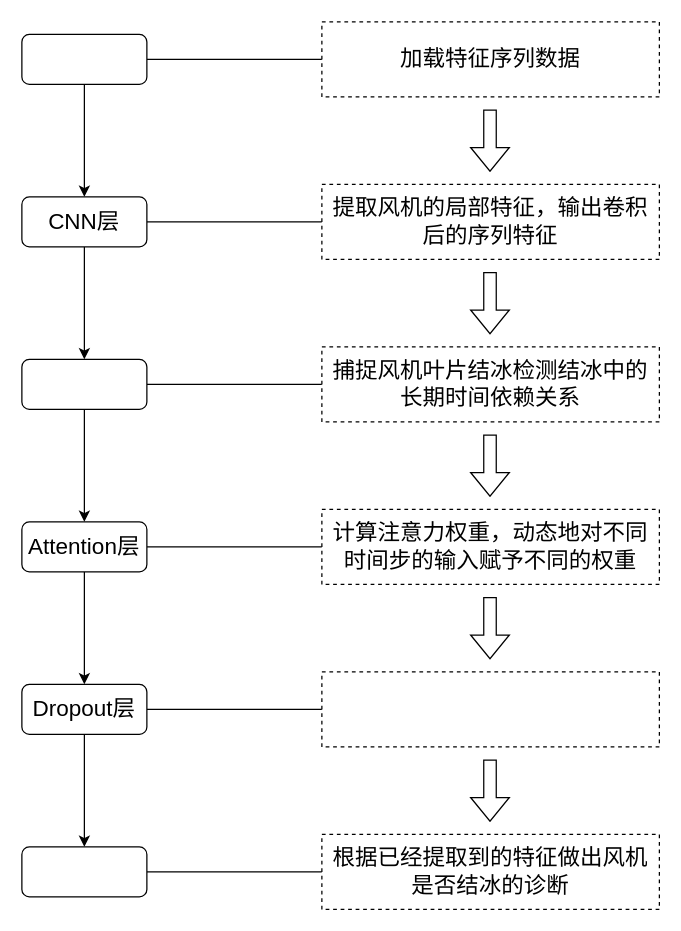
Image size: 681x931. Some labels were removed from this diagram. The box of each missing label's shape, as (x1, y1, x2, y2) in pixels:
GRU层: (21, 358, 147, 409)
输入层: (21, 33, 147, 84)
输出层: (21, 846, 147, 897)
防止模型过拟合，提高模型的泛化能力: (321, 671, 659, 747)
